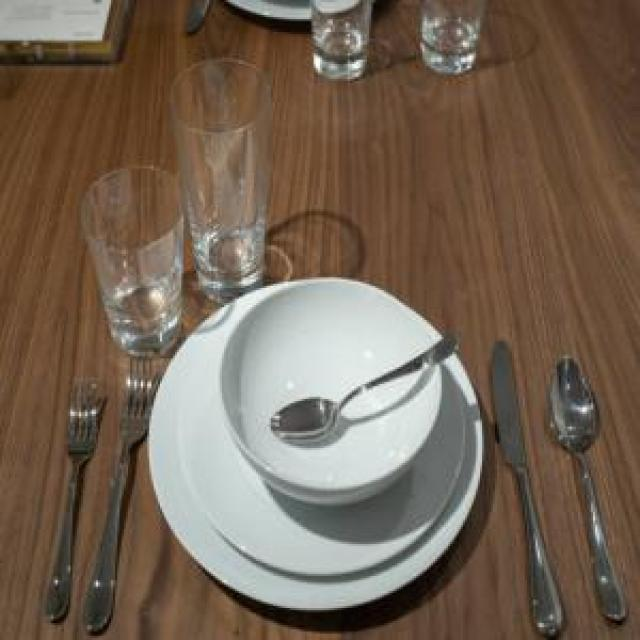knife: (484, 341, 558, 639)
